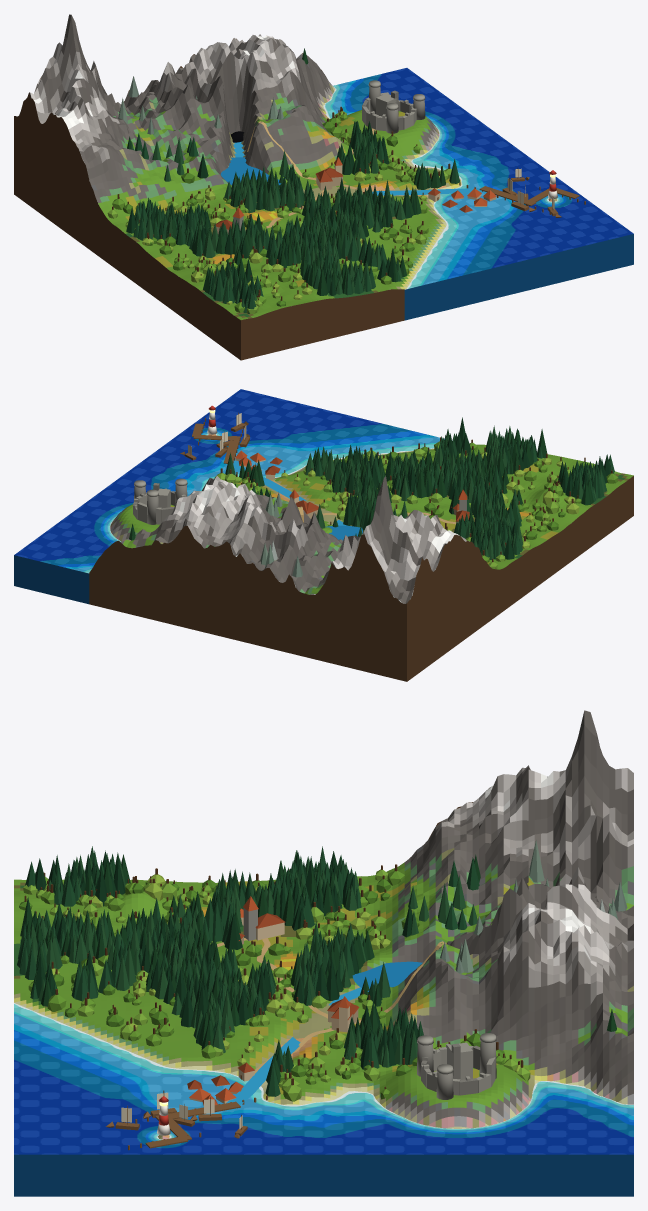
Rendered from blender-pixel.glb.
3 views of the same model, one above another, from view 1: azimuth 30°, elevation 25°; view 2: azimuth 150°, elevation 25°; view 3: azimuth 270°, elevation 25° (orthographic). The views are drawn at different scales.
Visible parts, largest first — view 1: Terreno, Borde, Mar, Lago, Rio; view 2: Borde, Terreno, Mar; view 3: Terreno, Mar, Borde, Rio, Lago.
Boxes of the visible parts, x1=… form: Terreno: x1=17, y1=14, x2=557, y2=319; Borde: x1=14, y1=38, x2=633, y2=360; Mar: x1=79, y1=68, x2=633, y2=289; Lago: x1=220, y1=157, x2=285, y2=185; Rio: x1=233, y1=141, x2=493, y2=195; Borde: x1=14, y1=476, x2=633, y2=681; Terreno: x1=89, y1=434, x2=633, y2=603; Mar: x1=14, y1=389, x2=444, y2=602; Terreno: x1=14, y1=710, x2=633, y2=1139; Mar: x1=14, y1=1003, x2=633, y2=1154; Borde: x1=14, y1=802, x2=633, y2=1196; Rio: x1=225, y1=987, x2=361, y2=1112; Lago: x1=352, y1=961, x2=422, y2=991.
Size of the model in its own units: 120 by 53.51 by 120.
35 materials, 1 textured.
